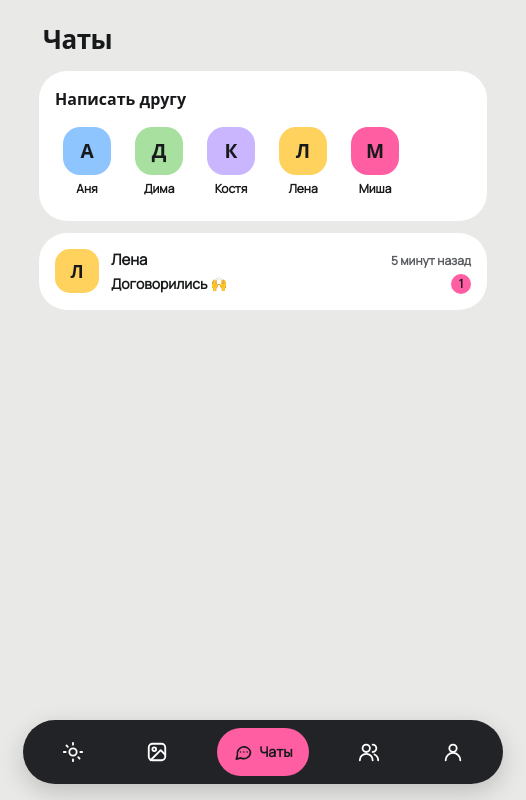
Scenario: Chats (US-17) › opens a chat, marks it read and sends a message
The image size is (526, 800).
Click the link "Л Лена 5 минут назад Договорились 🙌 1".
click(77, 271)  # box [55,249,471,294]
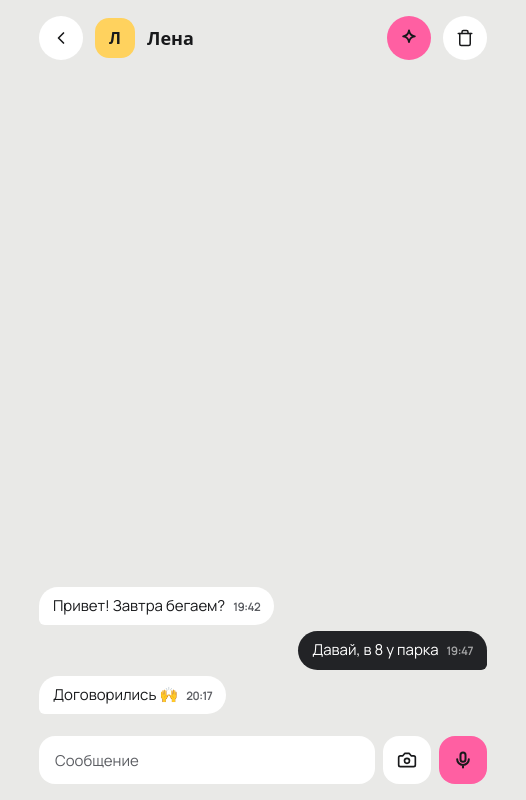
Check: the button "Привет! Завтра бегаем? 19:42" is shown, box [39,586,274,625]
Check: the button "Давай, в 8 у парка 19:47" is shown, box [298,631,487,670]
Type "До завтра!" into the field labelled "Сообщение".
click(207, 760); type("До завтра!")  # box [39,736,375,784]
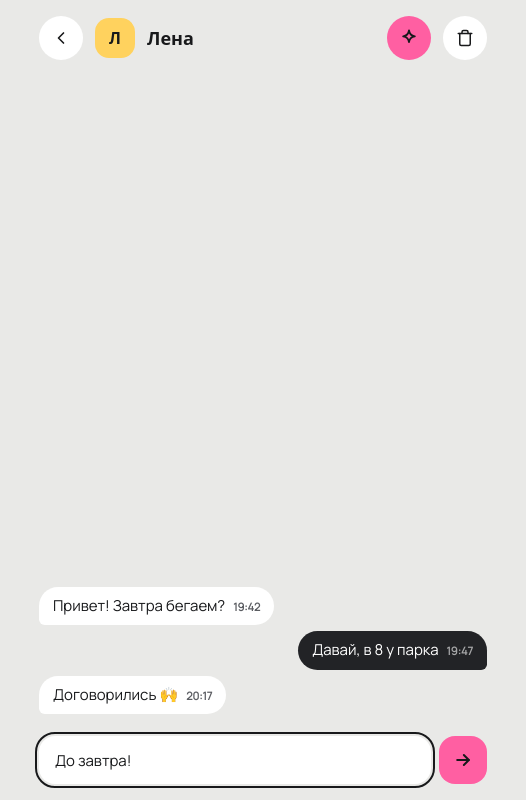
Click the button named "Отправить".
click(463, 760)  # box [439,736,487,784]
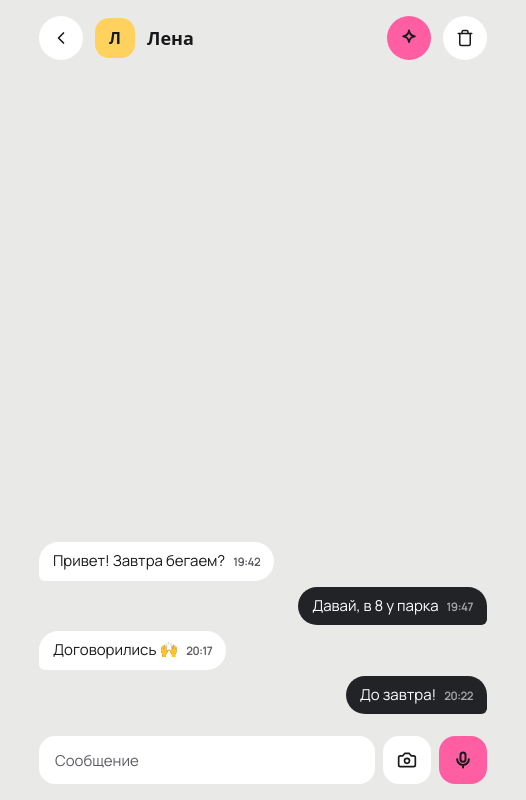
Check: the button "До завтра! 20:22" is shown, box [346,676,487,714]
Check: the field labelled "Сообщение" is empty, box [39,736,375,784]
